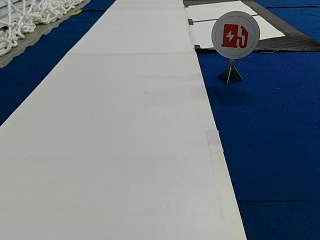battery: (210, 8, 259, 59)
